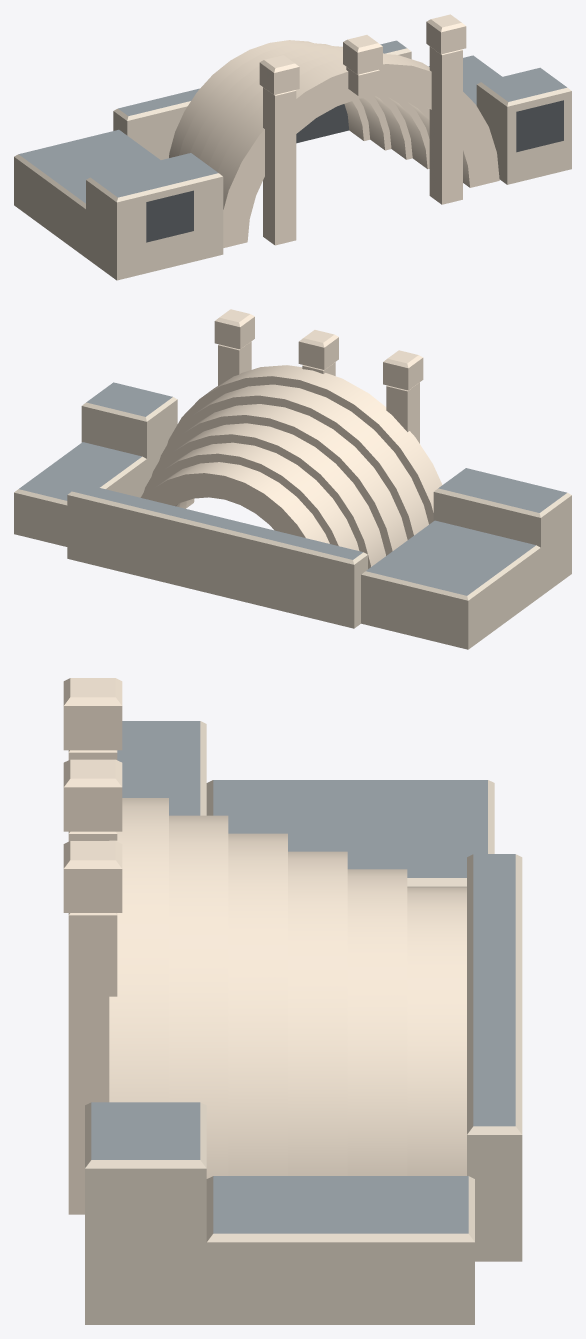
File: la-hollywood-bowl.glb
3 views of the same model, one above another, from view 1: azimuth 30°, elevation 25°; view 2: azimuth 150°, elevation 25°; view 3: azimuth 270°, elevation 25° (orthographic). The views are drawn at different scales.
Visible parts, largest first — view 1: Hollywood Bowl; view 2: Hollywood Bowl; view 3: Hollywood Bowl.
Part boxes in pixels (x1,y1,x2,y2): Hollywood Bowl: (14,14,571,280); Hollywood Bowl: (14,309,571,649); Hollywood Bowl: (63,678,522,1324).
Bounding box in the file's own units: 64.7 × 24 × 28.2.
